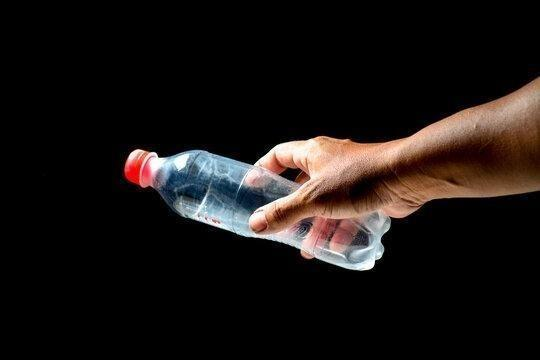bottle-plastic: (123, 146, 391, 269)
